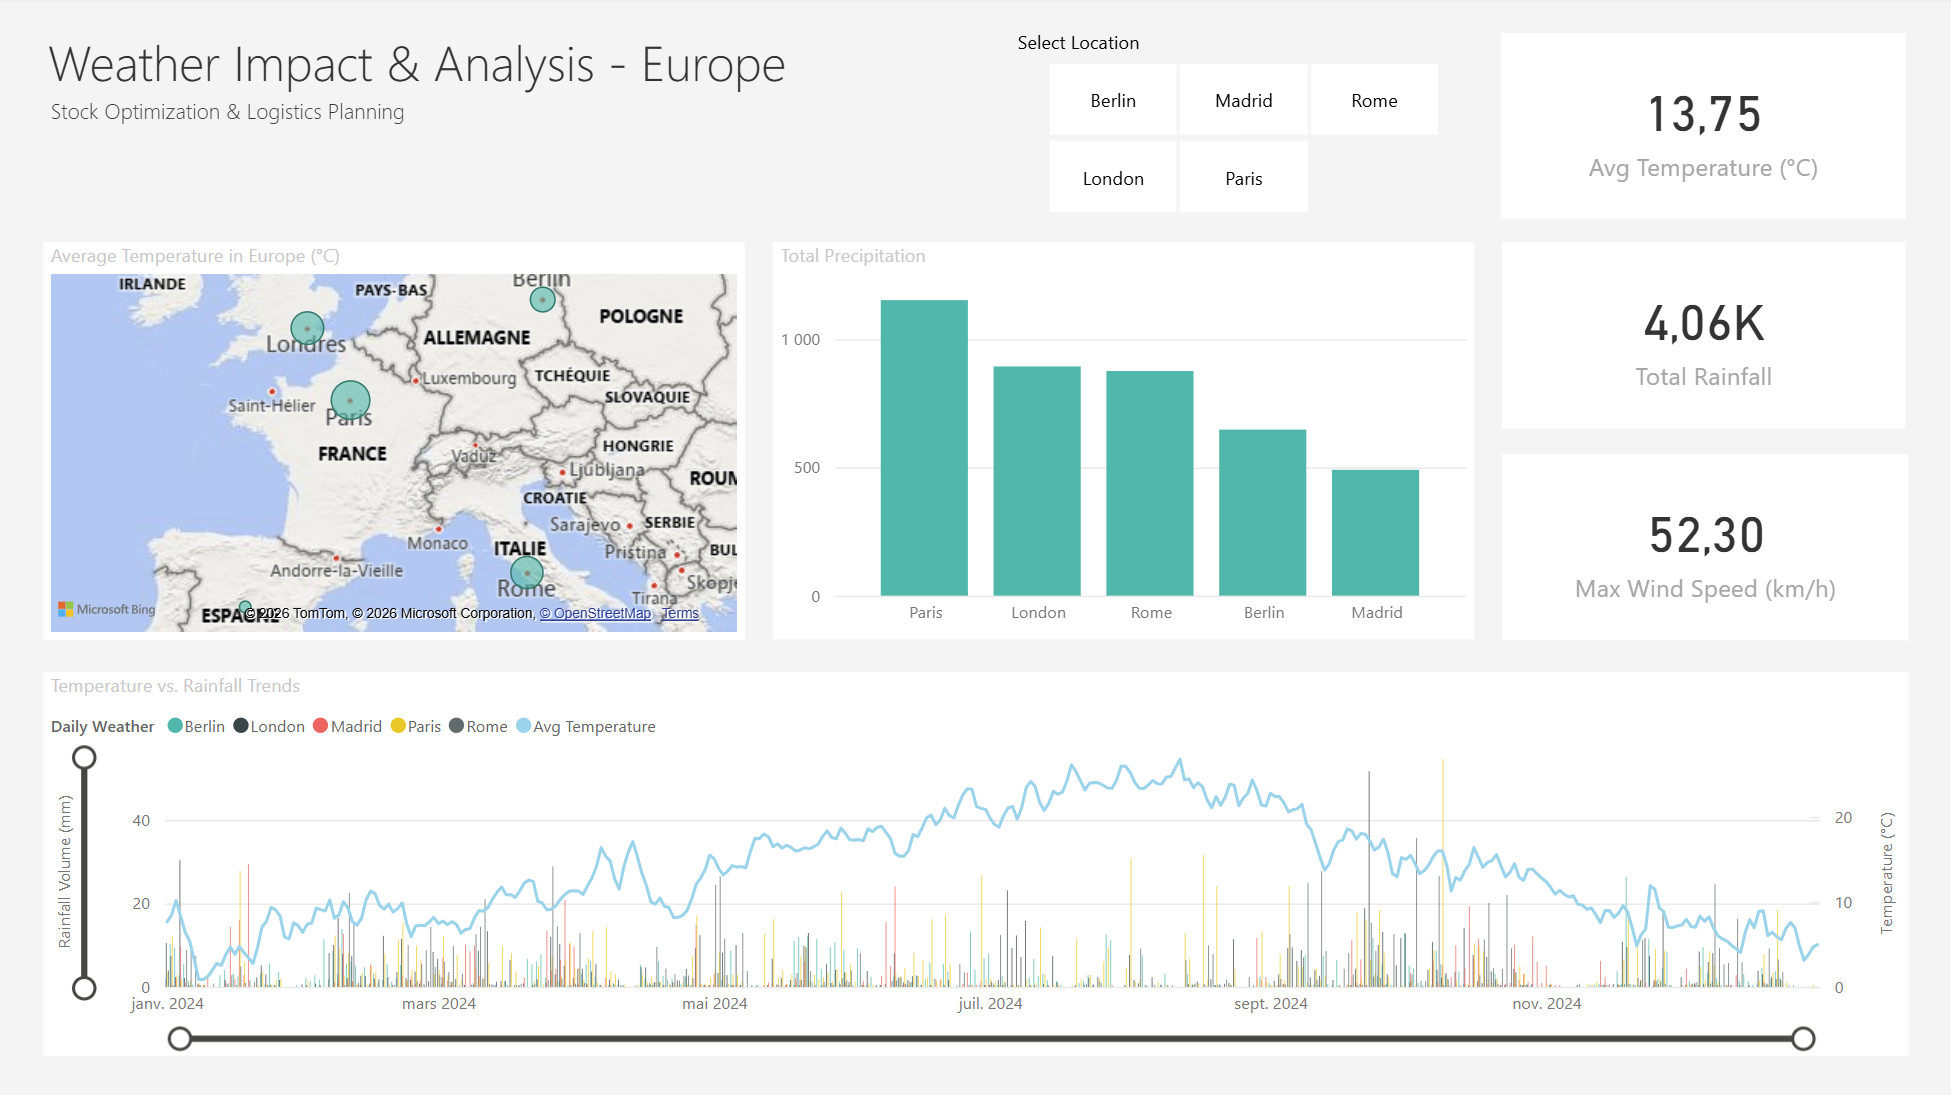

The page's visual inventory and layout, read from the dashboard file:
{"tool":"powerbi","page":{"name":"Page 1","canvas":[1280,720],"ordinal":0},"visuals":[{"type":"map","title":"Average Temperature in Europe (°C)","fields":{"Y":["public cities.latitude"],"X":["public cities.longitude"],"Size":["Sum(public weather_daily.precipitation_mm)"]},"box":[27.5,147.9,459.4,260.4],"z":0},{"type":"lineClusteredColumnComboChart","title":"Temperature vs. Rainfall Trends","fields":{"Category":["public weather_daily.date"],"Series":["public cities.name"],"Y":["Sum(public weather_daily.precipitation_mm)"],"Y2":["Avg(public weather_daily.avg_temp_c)"]},"box":[29.4,441.7,1221.1,250.6],"z":1000},{"type":"columnChart","title":"Total Precipitation","fields":{"Category":["public cities.name"],"Y":["Sum(public weather_daily.precipitation_mm)"]},"box":[507.2,160.3,459.4,260.4],"z":2000},{"type":"card","fields":{"Values":["Max(public weather_daily.max_wind_kmh)"]},"box":[984.2,299.1,266.3,121.7],"z":3000},{"type":"card","fields":{"Values":["Sum(public weather_daily.precipitation_mm)"]},"box":[984.2,160.3,264.4,121.7],"z":4000},{"type":"card","fields":{"Values":["Avg(public weather_daily.avg_temp_c)"]},"box":[983.6,23.6,265,121.7],"z":5000},{"type":"slicer","title":"Select Location","fields":{"Values":["public cities.name"]},"box":[662.2,20.9,304.3,127],"z":6000},{"type":"textbox","box":[27.5,15.1,612.5,55],"z":7000},{"type":"textbox","box":[29.4,59.6,371,38],"z":8000}]}

Visuals, with their boxes in screenshot pixels (x1, y1, x2, y2), scaled from the page's 1280x720 canvas onto the 1951x1095 screenshot:
"Average Temperature in Europe (°C)" map: bbox=[42, 225, 742, 621]
"Temperature vs. Rainfall Trends" lineClusteredColumnComboChart: bbox=[45, 672, 1906, 1053]
"Total Precipitation" columnChart: bbox=[773, 244, 1473, 640]
card - Max(public weather_daily.max_wind_kmh): bbox=[1500, 455, 1906, 640]
card - Sum(public weather_daily.precipitation_mm): bbox=[1500, 244, 1903, 429]
card - Avg(public weather_daily.avg_temp_c): bbox=[1499, 36, 1903, 221]
"Select Location" slicer: bbox=[1009, 32, 1473, 225]
textbox: bbox=[42, 23, 976, 107]
textbox: bbox=[45, 91, 610, 148]
